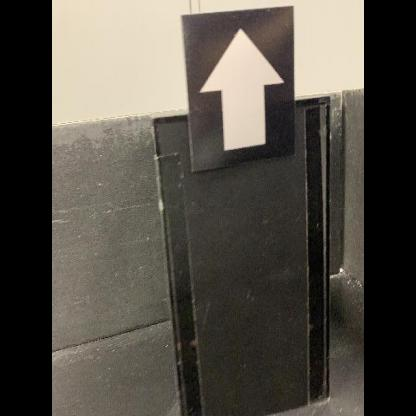up: (180, 5, 298, 176)
